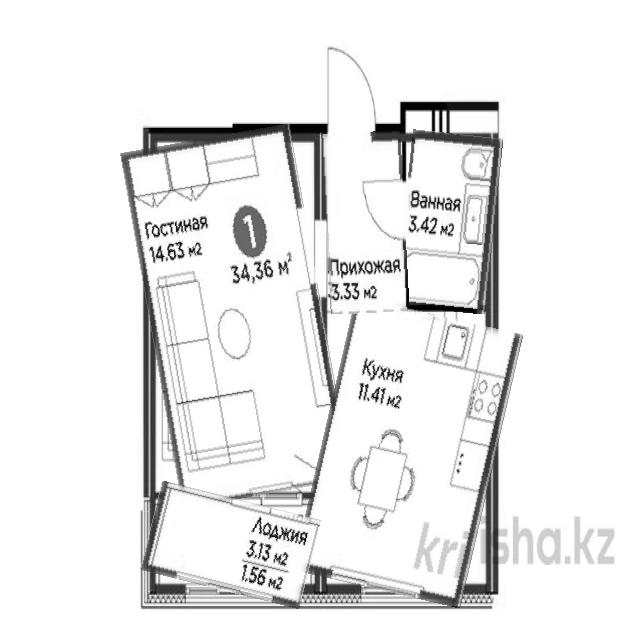balcony: (145, 490, 317, 600)
bathroom: (398, 131, 498, 312)
hallway: (324, 131, 407, 314)
kitchen: (307, 304, 509, 601)
living_room: (135, 129, 337, 502)
